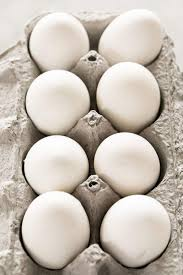eggs: (12, 193, 83, 262), (21, 134, 95, 199), (98, 131, 164, 197), (92, 63, 161, 126), (104, 196, 165, 265), (27, 67, 86, 134), (107, 16, 170, 65), (16, 27, 84, 72)
